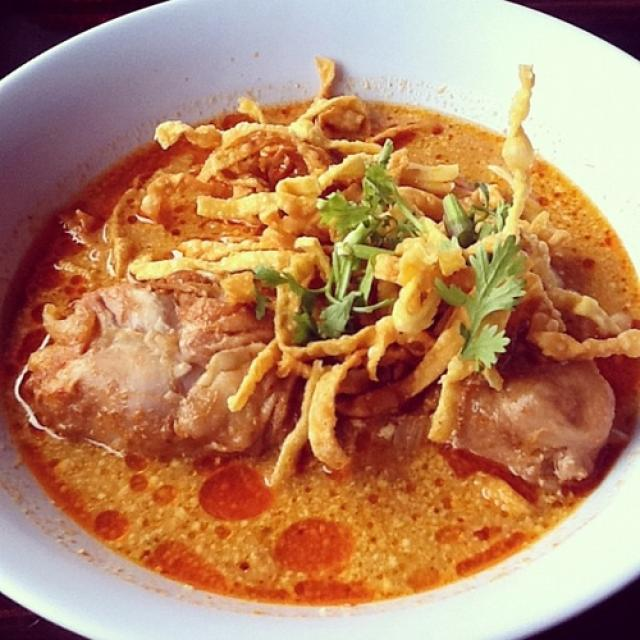面条主食: (26, 34, 634, 610)
